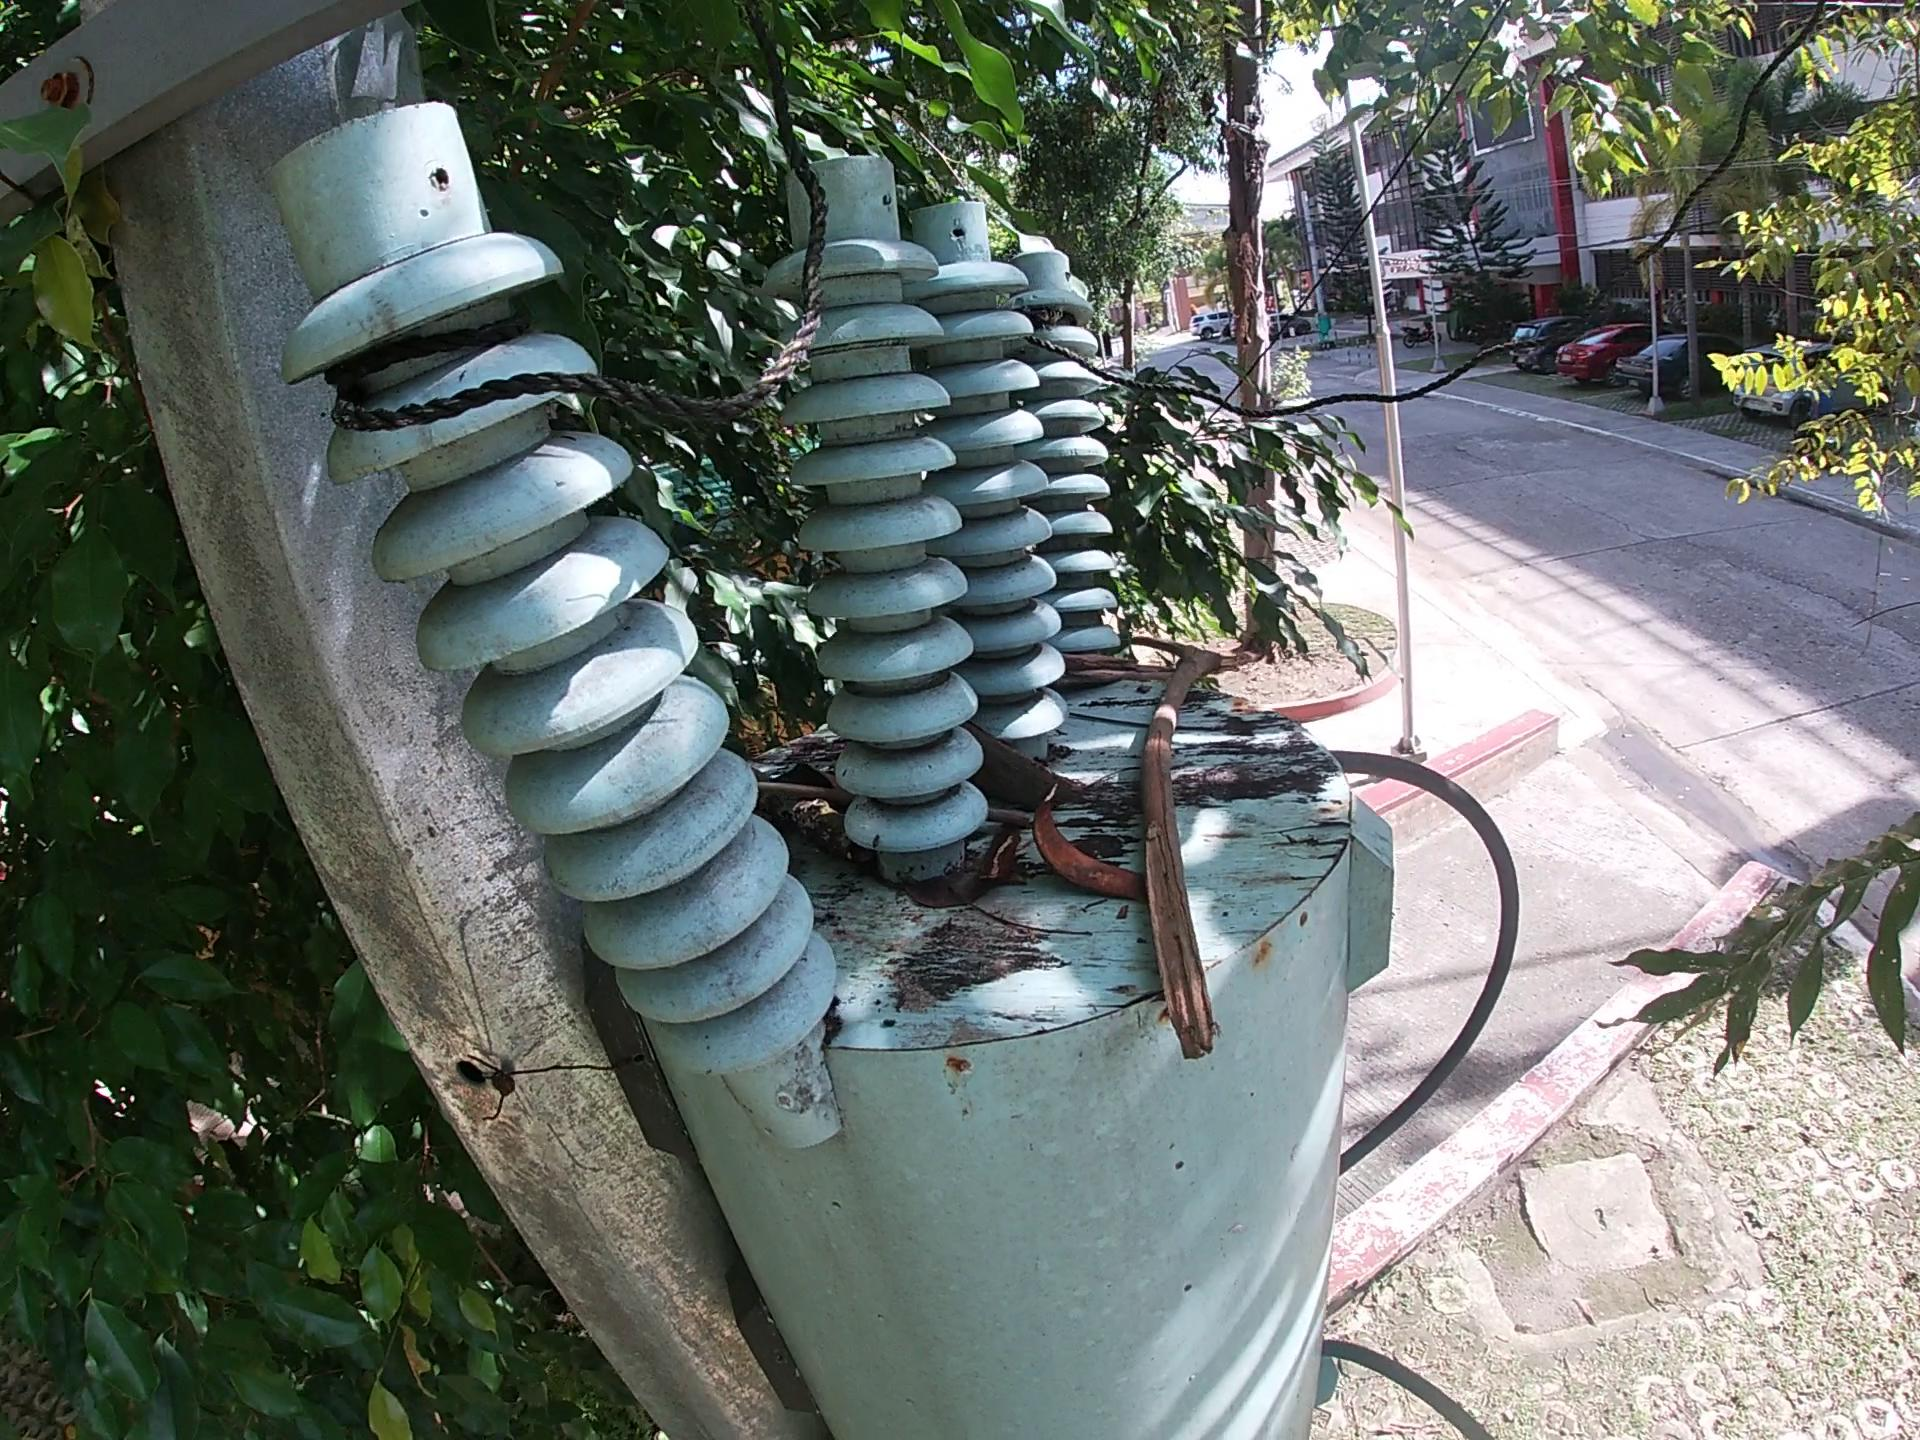leaf: (877, 882, 974, 917), (788, 753, 844, 796)
mahogany fruit: (1030, 779, 1146, 909), (969, 731, 1101, 806)
tree branch: (1123, 620, 1249, 1091), (754, 781, 878, 876), (966, 895, 1105, 945), (1061, 650, 1169, 693), (974, 843, 1027, 892), (744, 779, 844, 800), (1070, 709, 1146, 729), (1175, 715, 1262, 731), (980, 809, 1046, 827)
